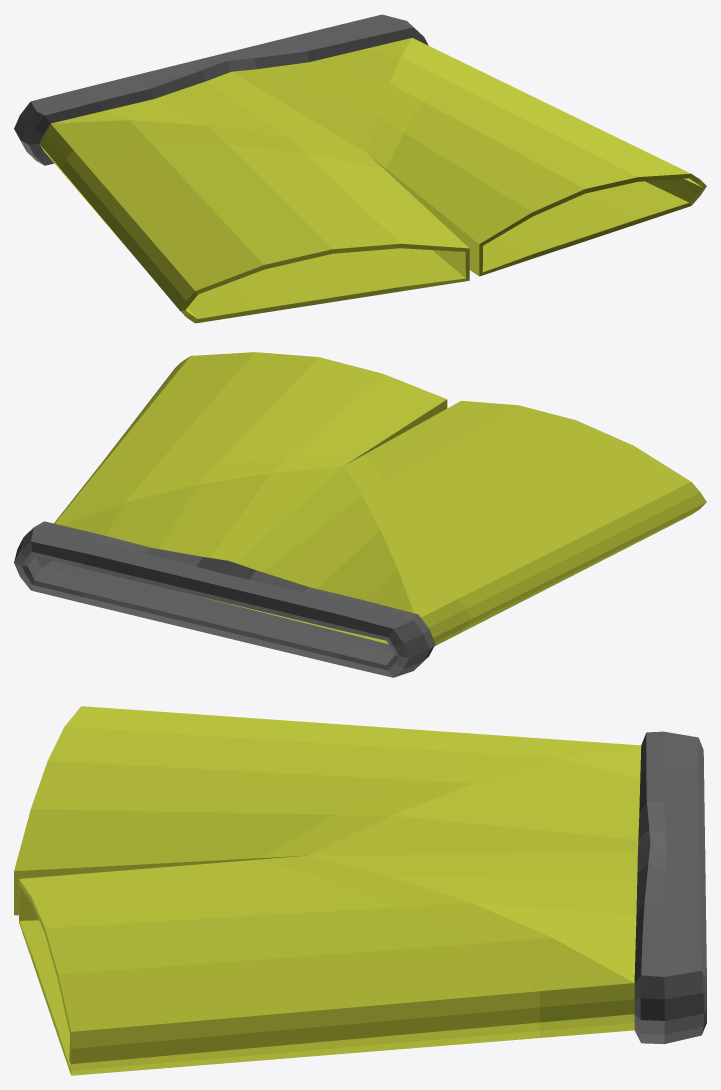
The model's file is Sports Shorts 1.fbx.
3 renders of one model, top to bottom at view 1: azimuth 30°, elevation 25°; view 2: azimuth 150°, elevation 25°; view 3: azimuth 270°, elevation 25°, orthographic. The views are drawn at different scales.
Visible parts, largest first — view 1: Node 0; view 2: Node 0; view 3: Node 0.
Part boxes in pixels (bbox=[...]): Node 0: bbox=[14, 14, 706, 323]; Node 0: bbox=[14, 352, 706, 677]; Node 0: bbox=[14, 706, 706, 1075].
Size of the model in its own units: 0.6235 by 0.0843 by 0.7369.
